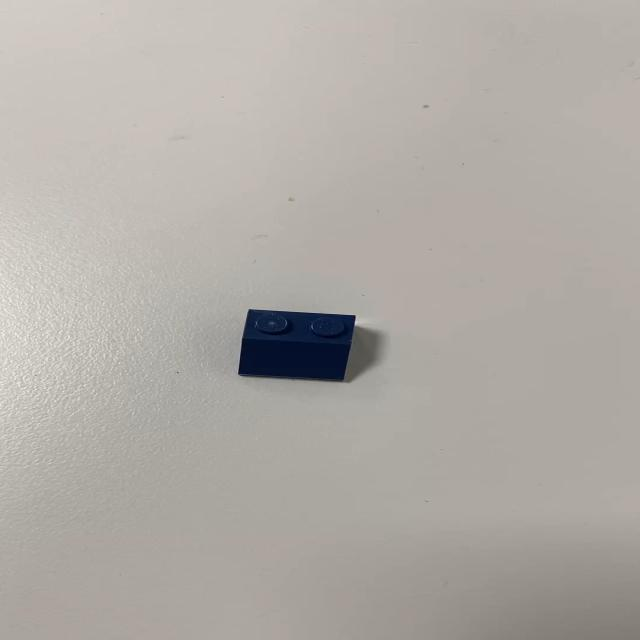P2x2x1: (236, 307, 356, 381)
